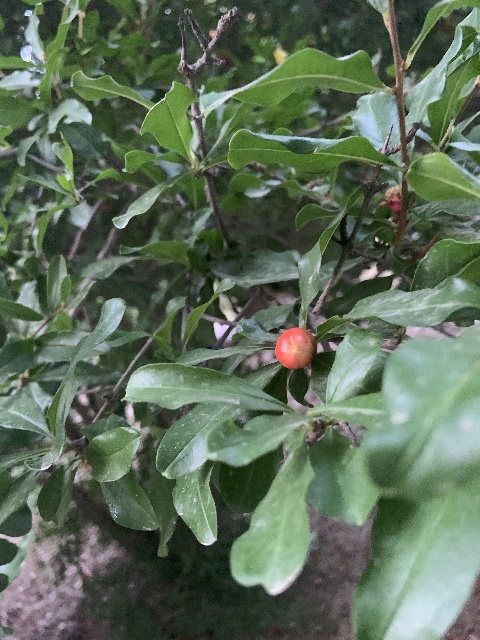bud: (275, 327, 316, 369)
